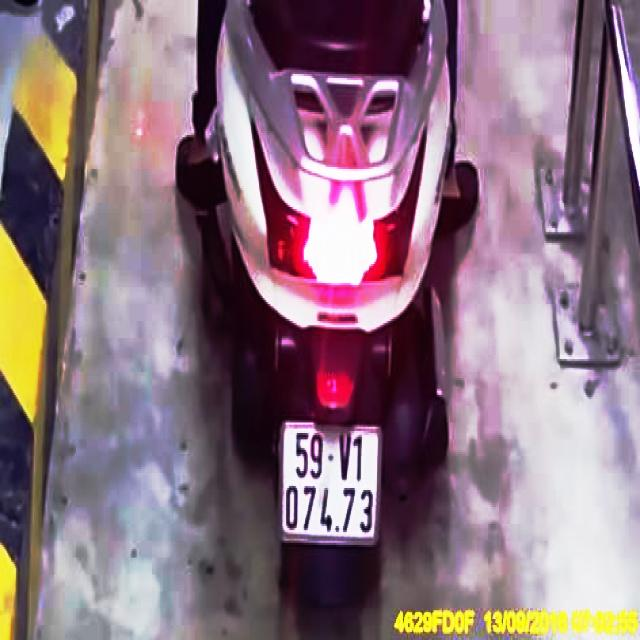license_plate: (280, 422, 382, 546)
